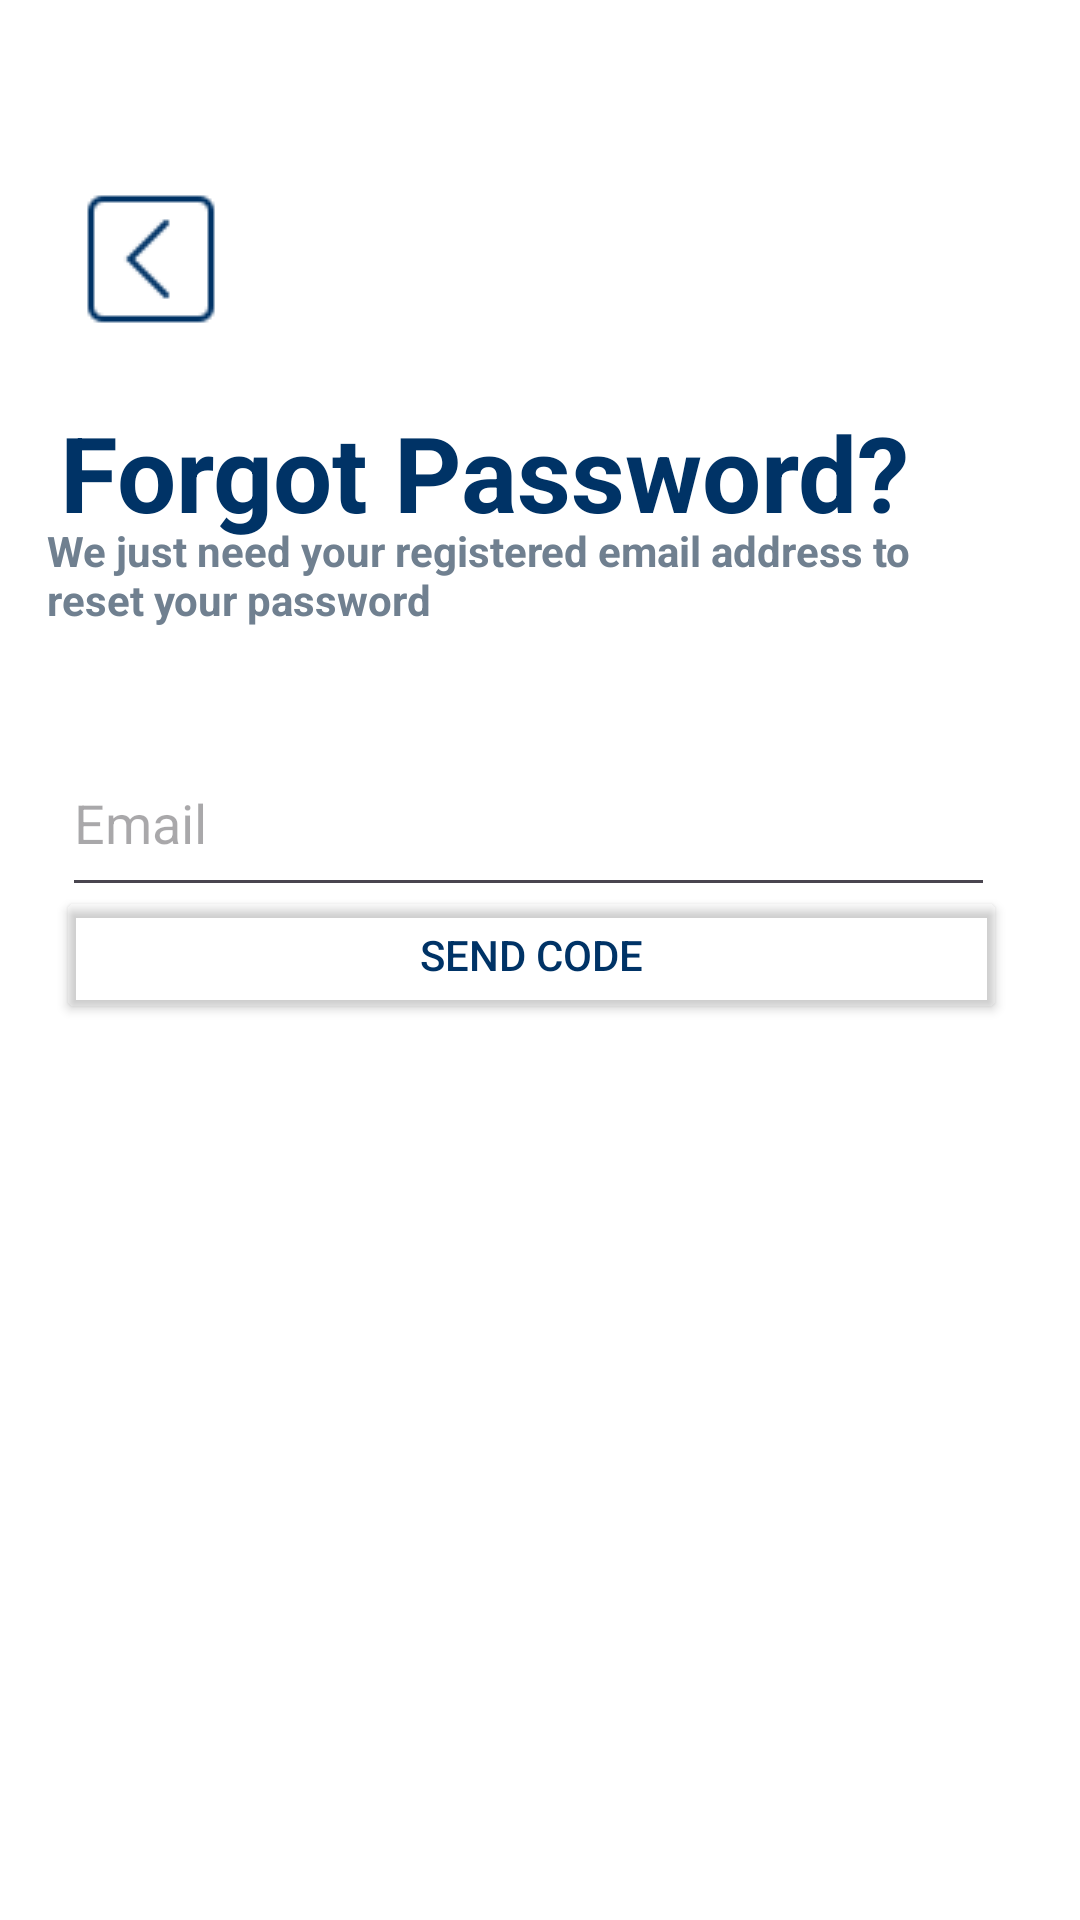

Named icons in this screenshot (1080 × 1920) and their centers, (x=x, y=y):
back button: (x=151, y=259)
